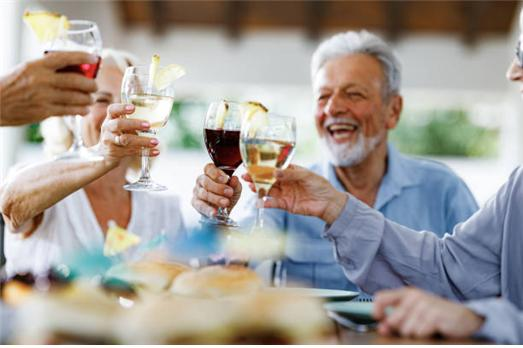alcohol: (198, 99, 257, 230), (239, 109, 296, 242), (121, 62, 177, 192), (53, 21, 100, 91)
